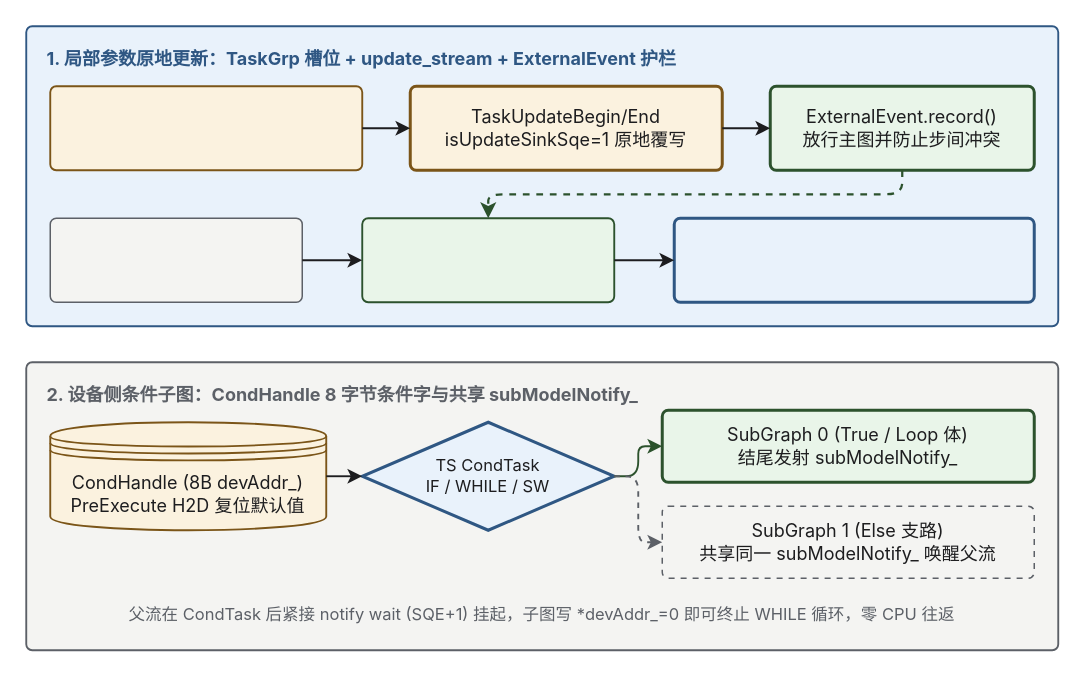
This 1086x678 diagram has some shape labels left out. Here are the shapes that lost their labels. From the top down, the centre of each, then its label:
At point 206,128: "update_stream (非捕获流) 重算新 seq_kv Tiling 参数".
At point 175,259: "前驱静态算子 Norm / QKV 保持不变".
At point 488,260: "Event Wait + Reset 清标志防下步误放行".
At point 853,259: "TaskGrp 可覆写槽 运行最新 PA / FIA SQE".
